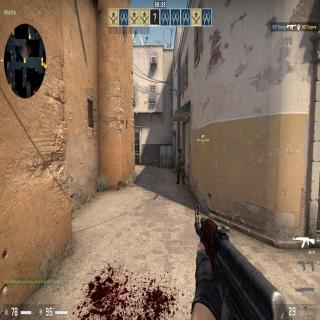CT-Body: (176, 147, 186, 186)
CT-Head: (178, 147, 182, 154)
